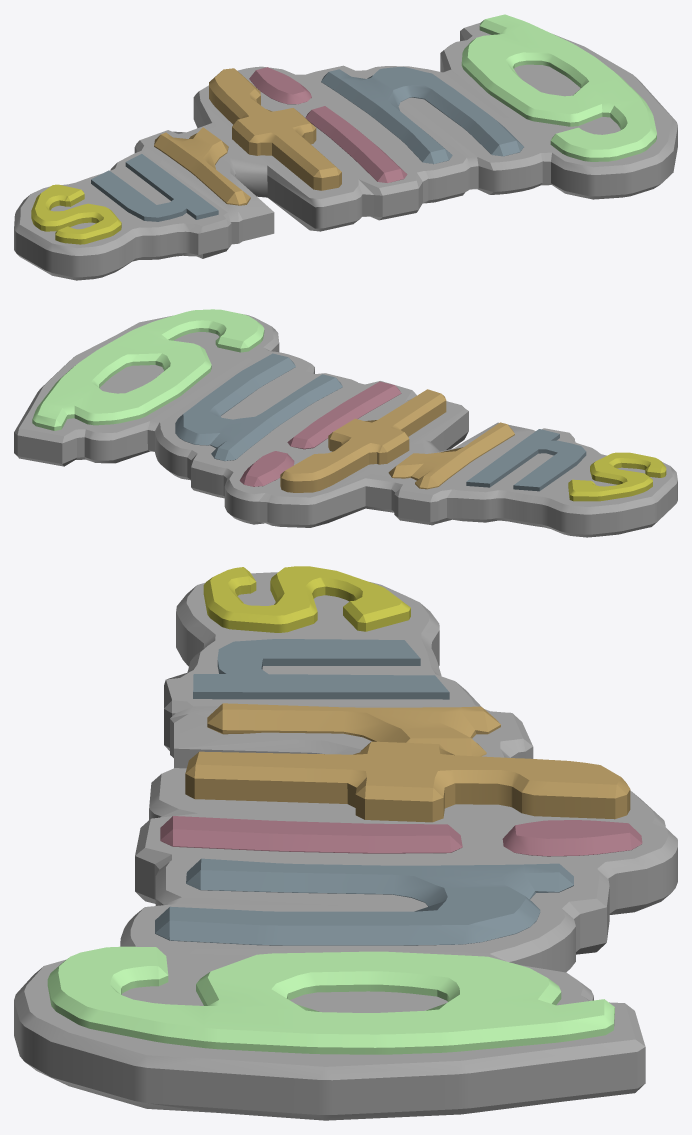
Rendered from Surfing.fbx.
The picture shows the model from 3 angles, top to bottom: view 1: azimuth 30°, elevation 25°; view 2: azimuth 150°, elevation 25°; view 3: azimuth 270°, elevation 25°; orthographic projection. The views are drawn at different scales.
Visible parts, largest first — view 1: pasted__pCube5, pasted__g2, h8, f, pasted__h7, pasted__s3, pasted__r1, pasted__i6, pasted__i7; view 2: pasted__pCube5, pasted__g2, h8, f, pasted__h7, pasted__s3, pasted__r1, pasted__i6, pasted__i7; view 3: pasted__pCube5, pasted__g2, h8, f, pasted__h7, pasted__r1, pasted__s3, pasted__i6, pasted__i7.
Boxes of the visible parts, x1,y1,x2,y2 form: pasted__pCube5: [14, 22, 677, 280]; pasted__g2: [461, 14, 656, 161]; h8: [321, 66, 523, 164]; f: [209, 68, 341, 190]; pasted__h7: [91, 154, 218, 221]; pasted__s3: [31, 184, 121, 244]; pasted__r1: [154, 127, 250, 205]; pasted__i6: [305, 106, 407, 182]; pasted__i7: [249, 67, 311, 104]; pasted__pCube5: [14, 314, 677, 537]; pasted__g2: [32, 309, 264, 430]; h8: [175, 353, 342, 460]; f: [280, 389, 446, 492]; pasted__h7: [466, 429, 586, 491]; pasted__s3: [568, 452, 666, 501]; pasted__r1: [388, 422, 514, 489]; pasted__i6: [287, 381, 401, 449]; pasted__i7: [239, 451, 294, 486]; pasted__pCube5: [14, 572, 677, 1120]; pasted__g2: [47, 946, 614, 1054]; h8: [155, 858, 573, 945]; f: [185, 741, 630, 822]; pasted__h7: [193, 639, 449, 699]; pasted__r1: [207, 703, 500, 756]; pasted__s3: [203, 566, 410, 632]; pasted__i6: [160, 816, 462, 853]; pasted__i7: [502, 820, 642, 856].
Size of the model in its own units: 7.99 by 0.6194 by 4.45.
